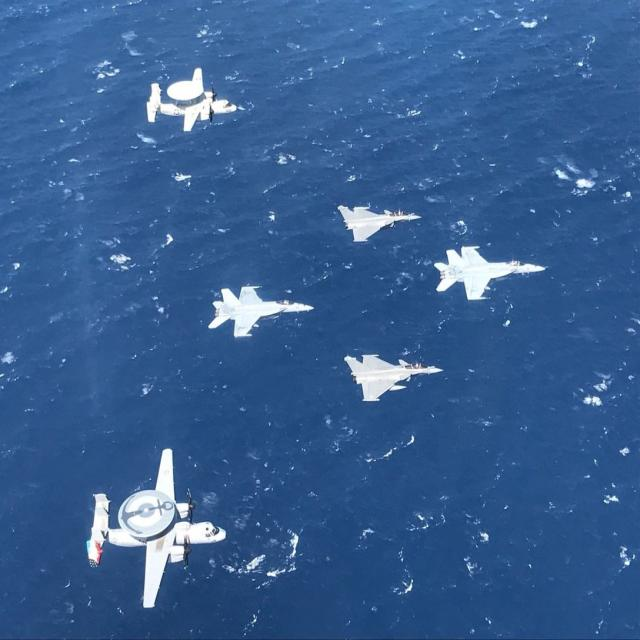MIL_Plane: (86, 448, 229, 609), (433, 245, 546, 301), (146, 67, 238, 132), (207, 285, 315, 338), (344, 353, 444, 402), (337, 204, 422, 243)
